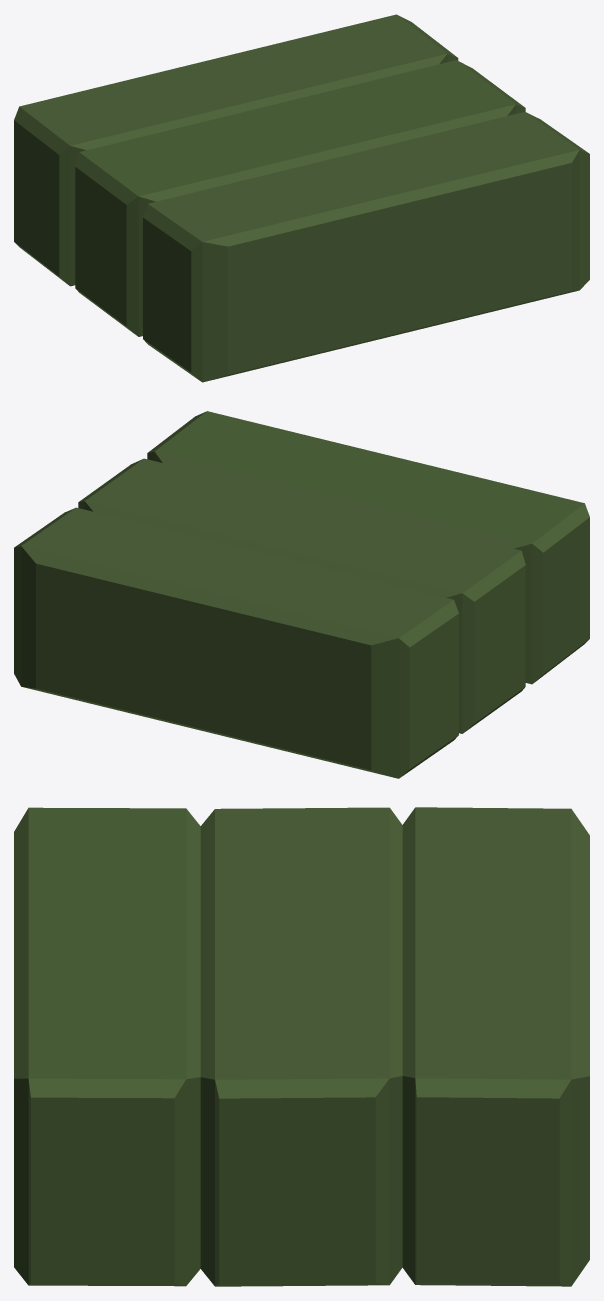
File: part1_dynamite.fbx
3 renders of one model, top to bottom at view 1: azimuth 30°, elevation 25°; view 2: azimuth 150°, elevation 25°; view 3: azimuth 270°, elevation 25°, orthographic. The views are drawn at different scales.
Parts seen in each view (by area): view 1: Cube.001; view 2: Cube.001; view 3: Cube.001.
Boxes of the visible parts, box(x1,y1,x2,y2) form: Cube.001: box(14, 14, 589, 382); Cube.001: box(14, 411, 589, 778); Cube.001: box(14, 807, 589, 1286).
Bounding box in the file's own units: 119 × 40.26 × 101.
